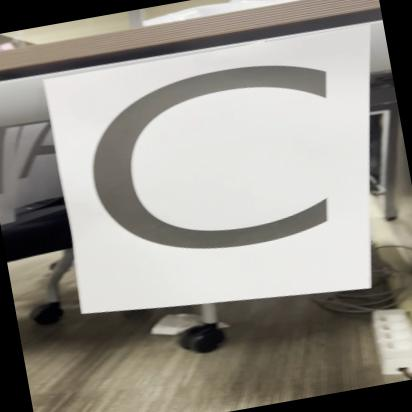seat: (67, 25, 367, 330)
